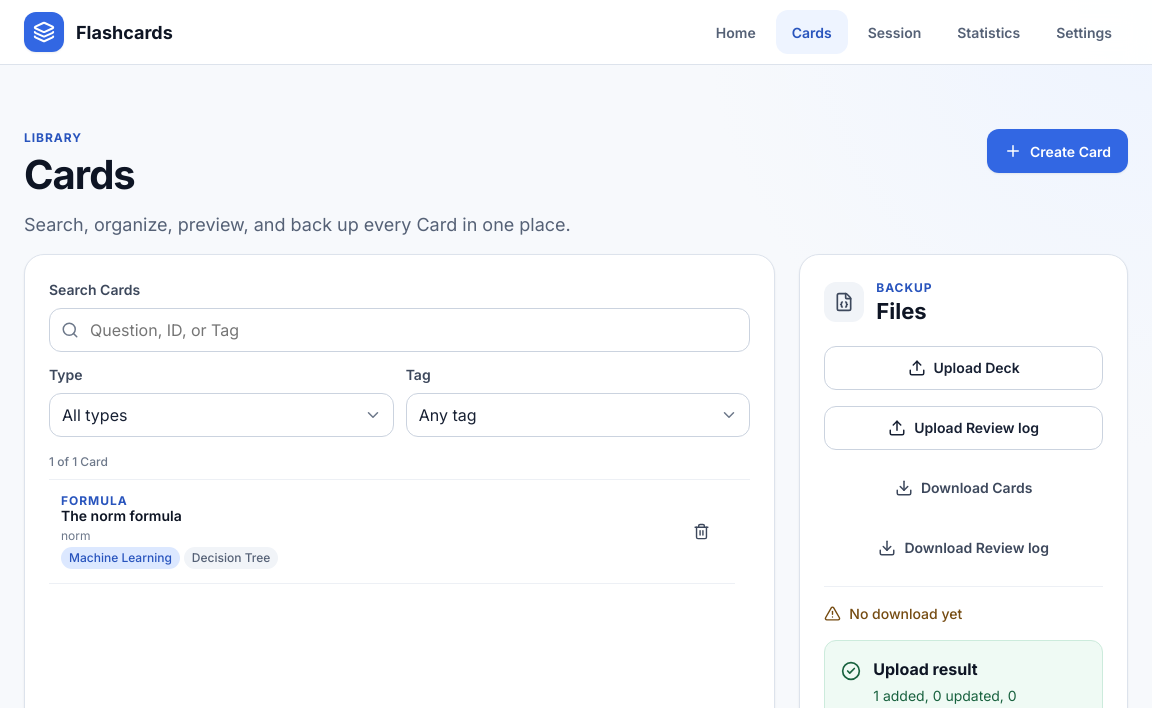
Test: shows the prompt, Reveal shows the answer, and grading appends a Review (formula without an example, Didn't know)
Earlier steps of the test are not shown.
Later steps or results of the test are not shown.
Click the button "Home" at (736, 32), box [700, 10, 772, 54]
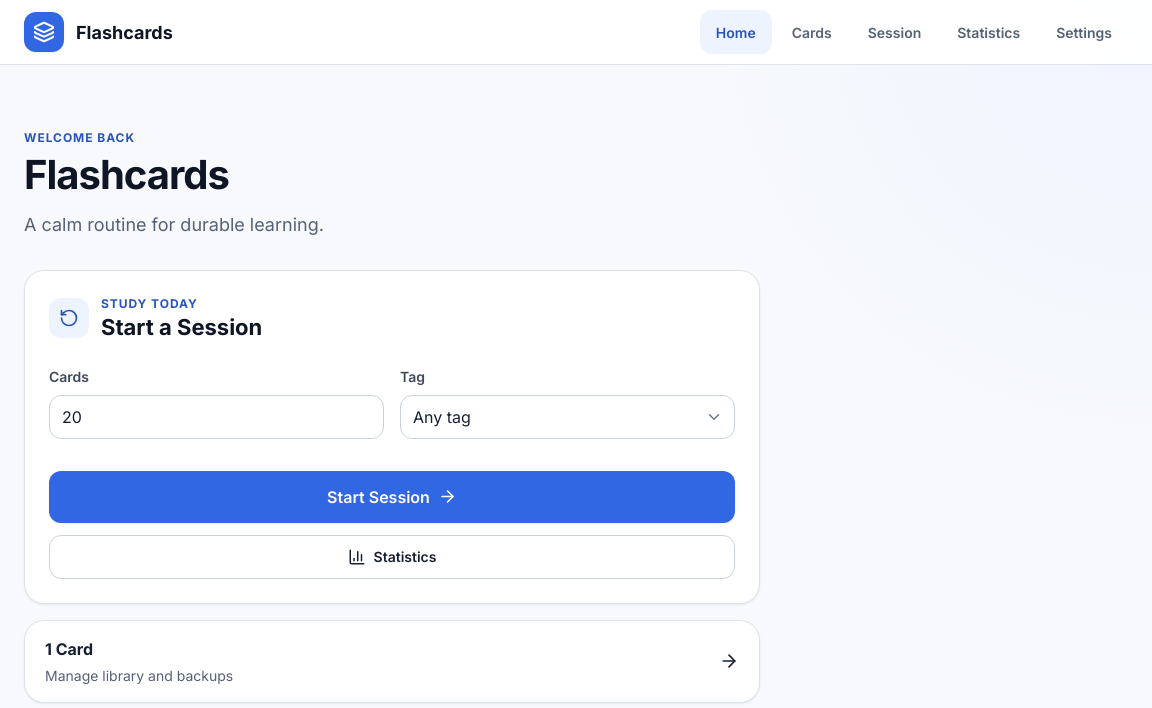
Click the button "Start Session" at (392, 497), box [49, 471, 735, 523]
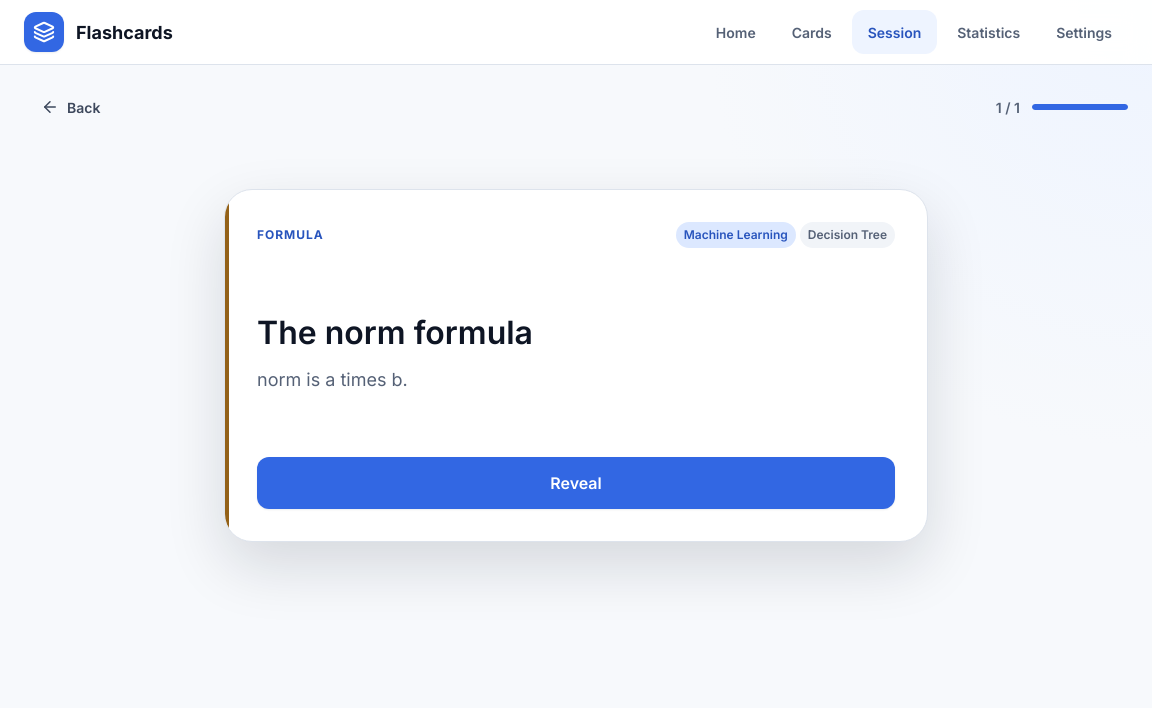
Expected: the text "norm = a · b" is not shown
Now the heading "The norm formula" is shown, box [257, 313, 533, 352]
Now the text "norm is a times b." is shown, box [257, 369, 408, 390]
Click the button "Reveal" at (576, 483), box [257, 457, 895, 509]
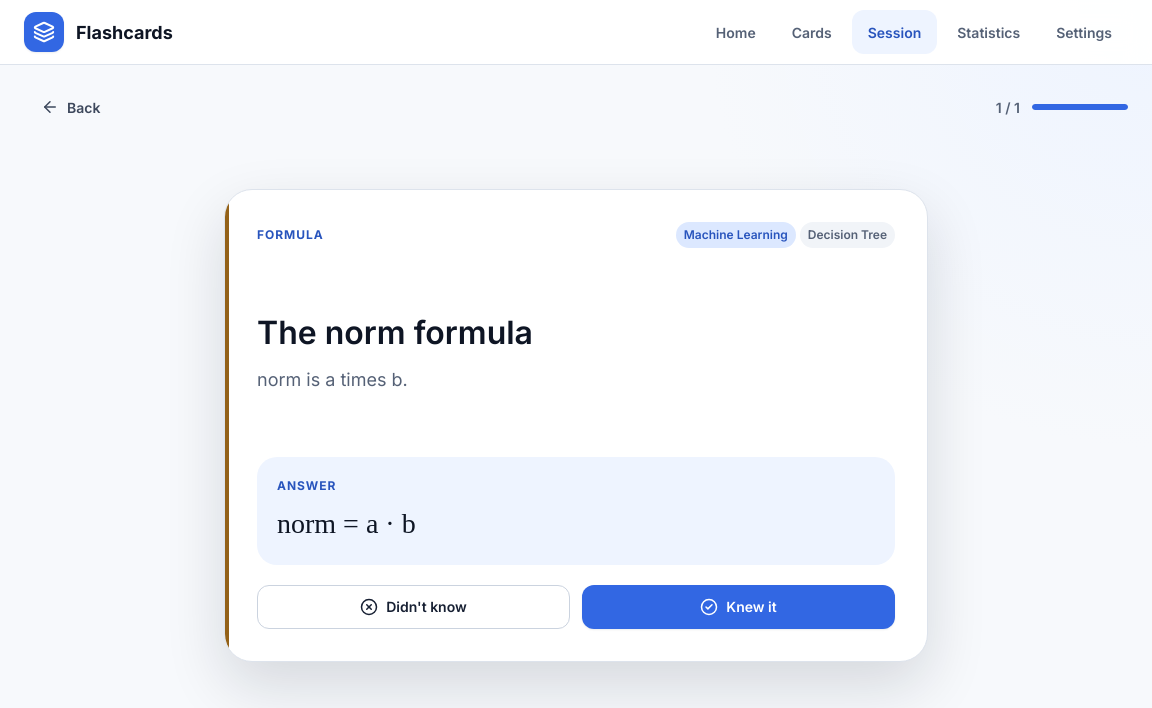
Now the text "norm = a · b" is shown, box [277, 508, 416, 539]
